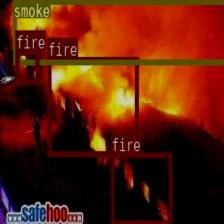fire: (47, 56, 138, 155), (110, 151, 171, 224), (14, 49, 38, 83)
smoke: (12, 0, 224, 62)
